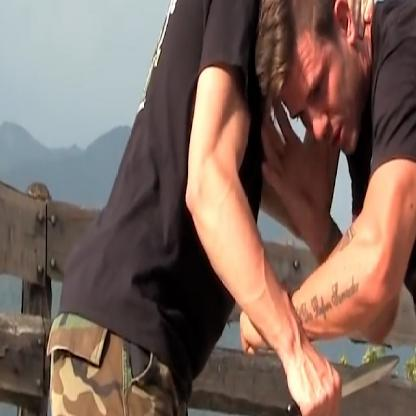knife: (283, 341, 405, 415)
